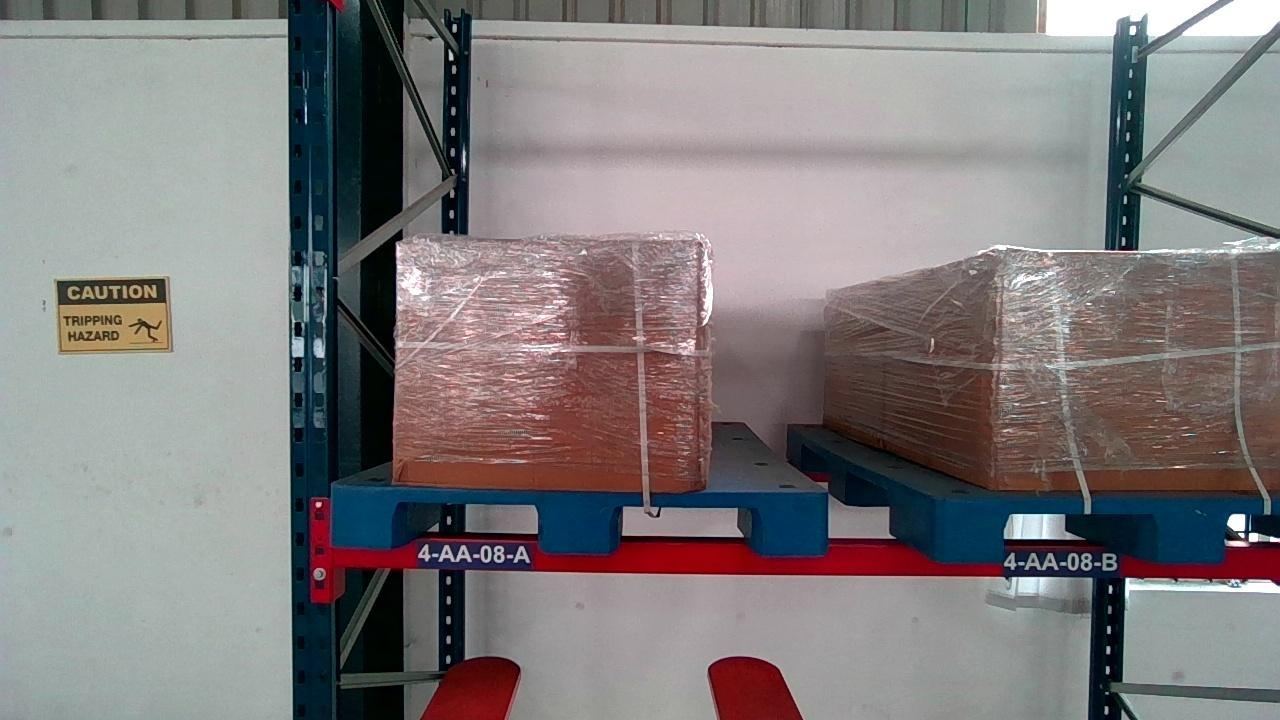h_rack: (328, 529, 1280, 578)
small_pallet: (327, 485, 832, 556), (950, 498, 1280, 559)
